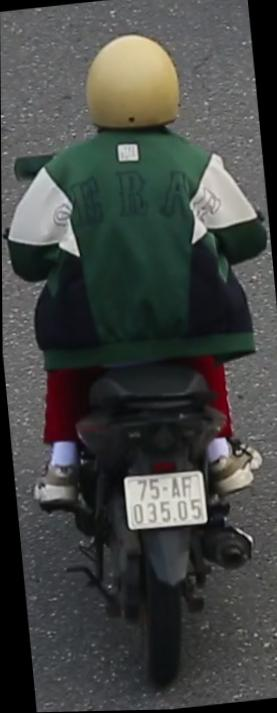LP: (115, 460, 214, 542)
helmet: (73, 22, 191, 159)
